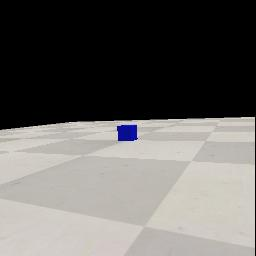box: (117, 125, 138, 141)
